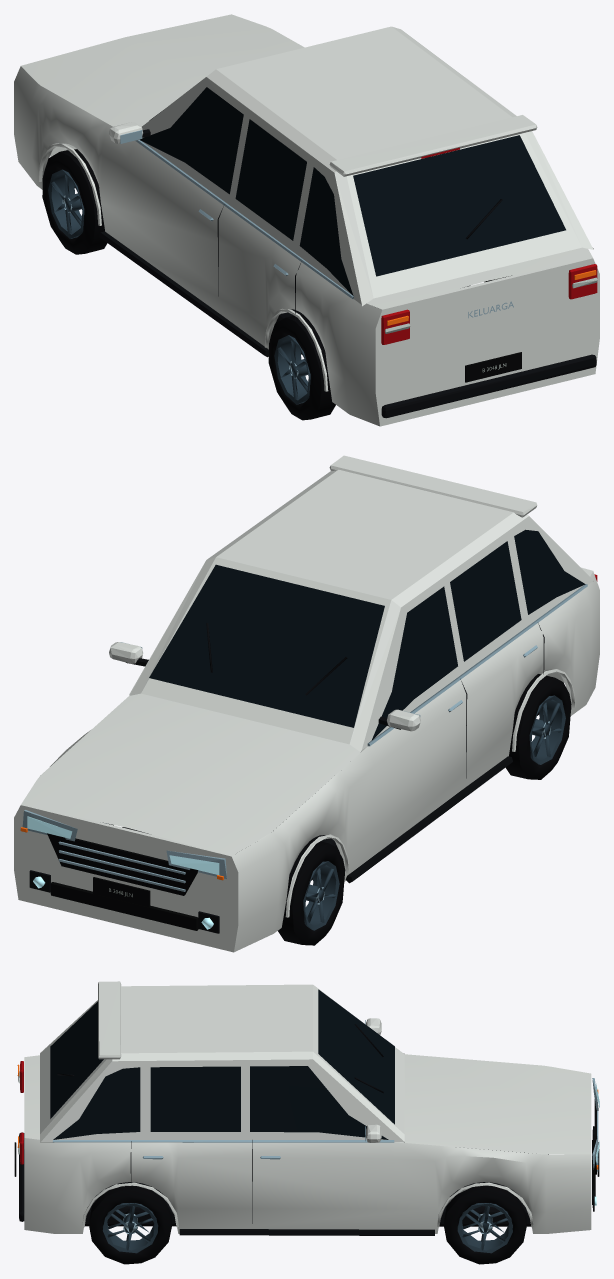
Rendered from family_mpv_pearl_lod1.glb.
3 renders of one model, top to bottom at view 1: azimuth 30°, elevation 25°; view 2: azimuth 150°, elevation 25°; view 3: azimuth 270°, elevation 25°, orthographic. The views are drawn at different scales.
Visible parts, largest first — view 1: Body_Mesh, Wheel_RL_Mesh, Wheel_FL_Mesh, TailLights_Mesh; view 2: Body_Mesh, Wheel_FL_Mesh, Wheel_RL_Mesh, Headlights_Mesh; view 3: Body_Mesh, Wheel_FR_Mesh, Wheel_RR_Mesh.
Boxes of the visible parts, left/top/right/bottom form: Body_Mesh: left=14, top=14, right=599, bottom=426; Wheel_RL_Mesh: left=268, top=314, right=335, bottom=420; Wheel_FL_Mesh: left=42, top=149, right=107, bottom=254; TailLights_Mesh: left=381, top=147, right=597, bottom=344; Body_Mesh: left=14, top=455, right=599, bottom=952; Wheel_FL_Mesh: left=278, top=839, right=345, bottom=945; Wheel_RL_Mesh: left=505, top=674, right=571, bottom=779; Headlights_Mesh: left=22, top=810, right=226, bottom=929; Body_Mesh: left=14, top=981, right=599, bottom=1235; Wheel_FR_Mesh: left=444, top=1182, right=526, bottom=1264; Wheel_RR_Mesh: left=89, top=1182, right=171, bottom=1264.
Bounding box in the file's own units: 2.16 × 1.7 × 4.54.
Materials: 2 (1 with a texture image).
